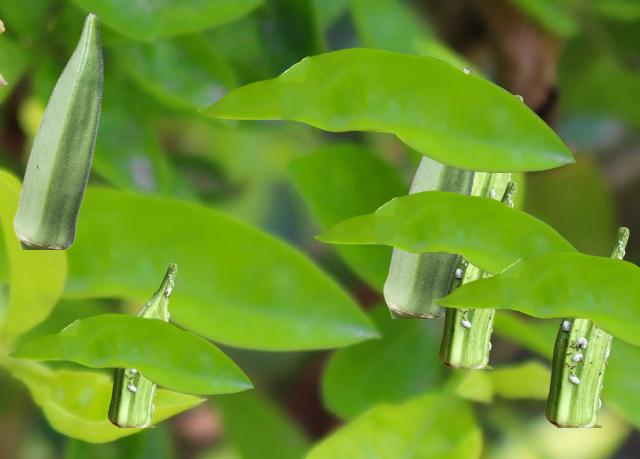okra: (383, 67, 475, 317), (13, 12, 102, 248), (545, 227, 628, 426), (439, 181, 516, 367), (108, 263, 176, 426), (473, 95, 522, 199)
